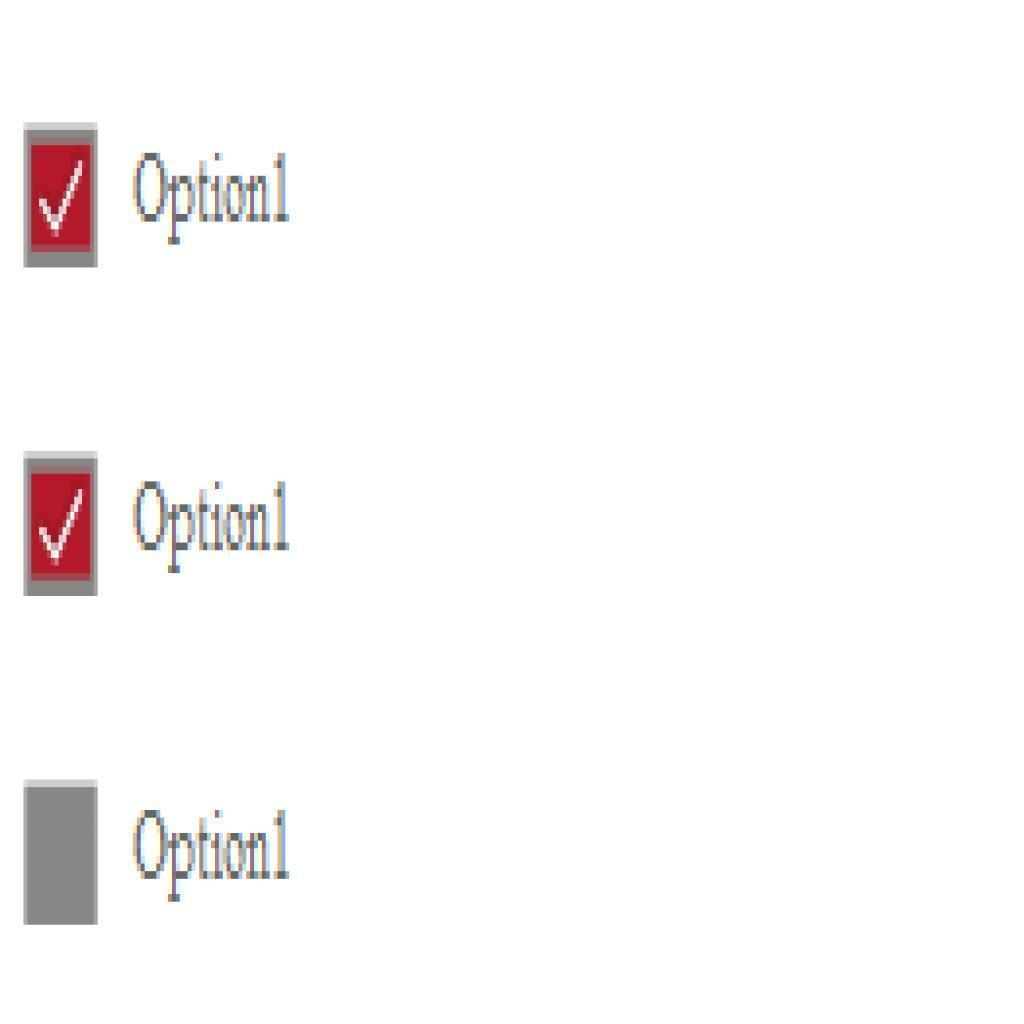checkbox: (21, 781, 99, 925), (22, 128, 97, 269), (25, 458, 99, 598)
label: (124, 469, 296, 583), (129, 143, 298, 251), (127, 804, 294, 905)
